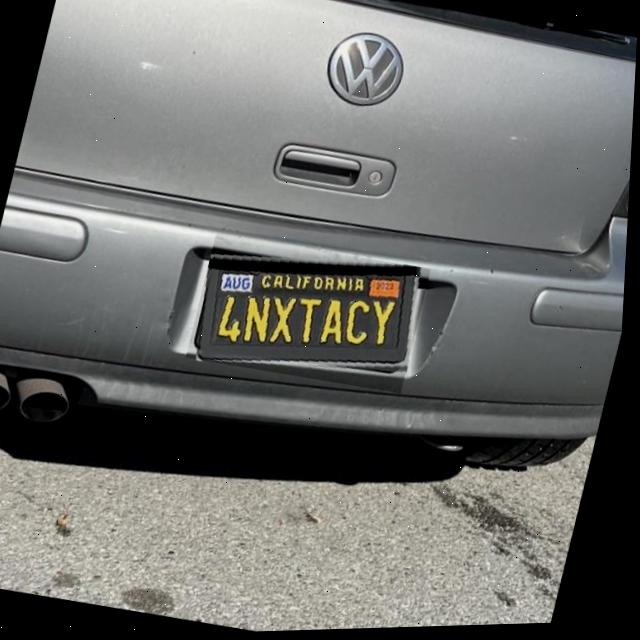LicensePlate: (202, 261, 423, 369)
